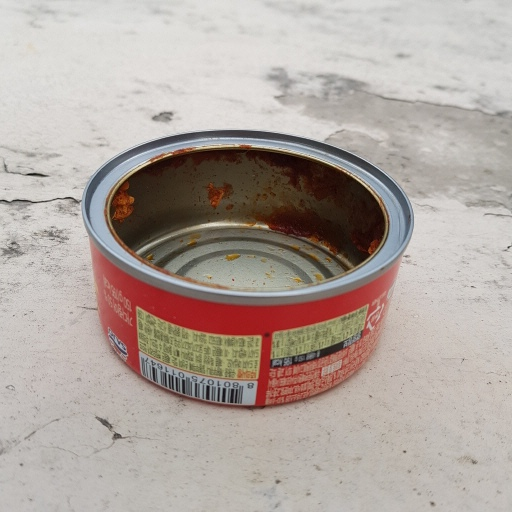Metal_1: (78, 128, 414, 408)
